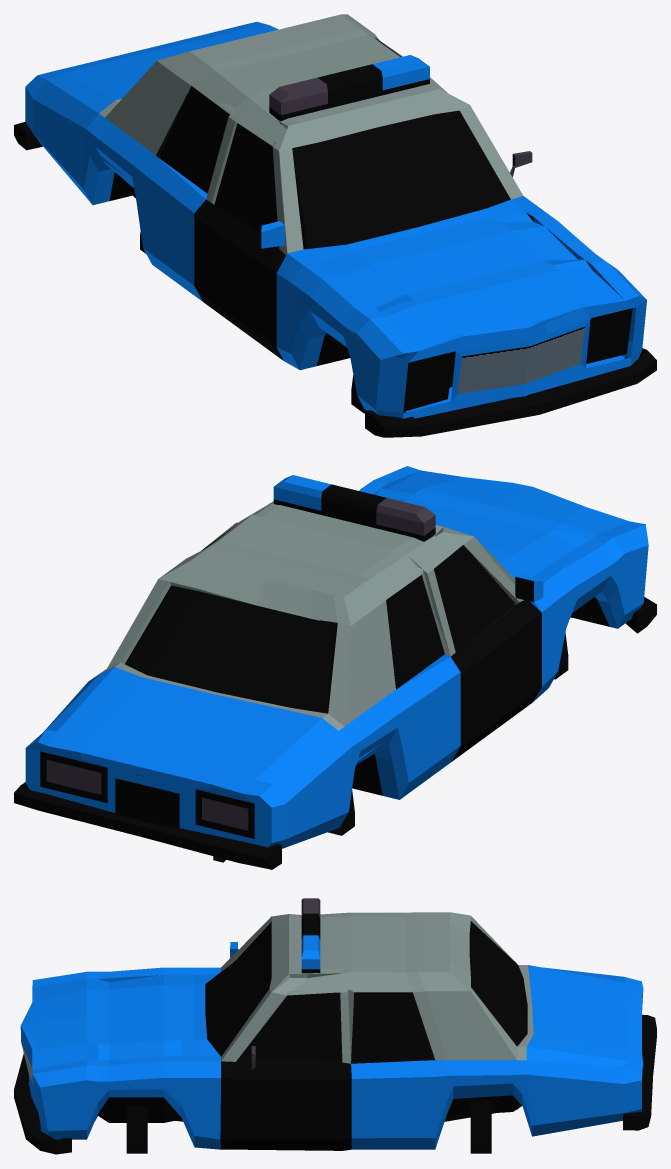
Rendered from 225_kori_copcar.gltf.
The picture shows the model from 3 angles, top to bottom: view 1: azimuth 30°, elevation 25°; view 2: azimuth 150°, elevation 25°; view 3: azimuth 270°, elevation 25°; orthographic projection. The views are drawn at different scales.
Visible parts, largest first — view 1: kori_copcar; view 2: kori_copcar; view 3: kori_copcar.
Boxes of the visible parts, x1,y1,x2,y2 form: kori_copcar: [14, 14, 656, 437]; kori_copcar: [14, 466, 656, 869]; kori_copcar: [14, 898, 656, 1154].
Bounding box in the file's own units: 3.05 × 2.38 × 7.33.
1 material, 1 textured.
